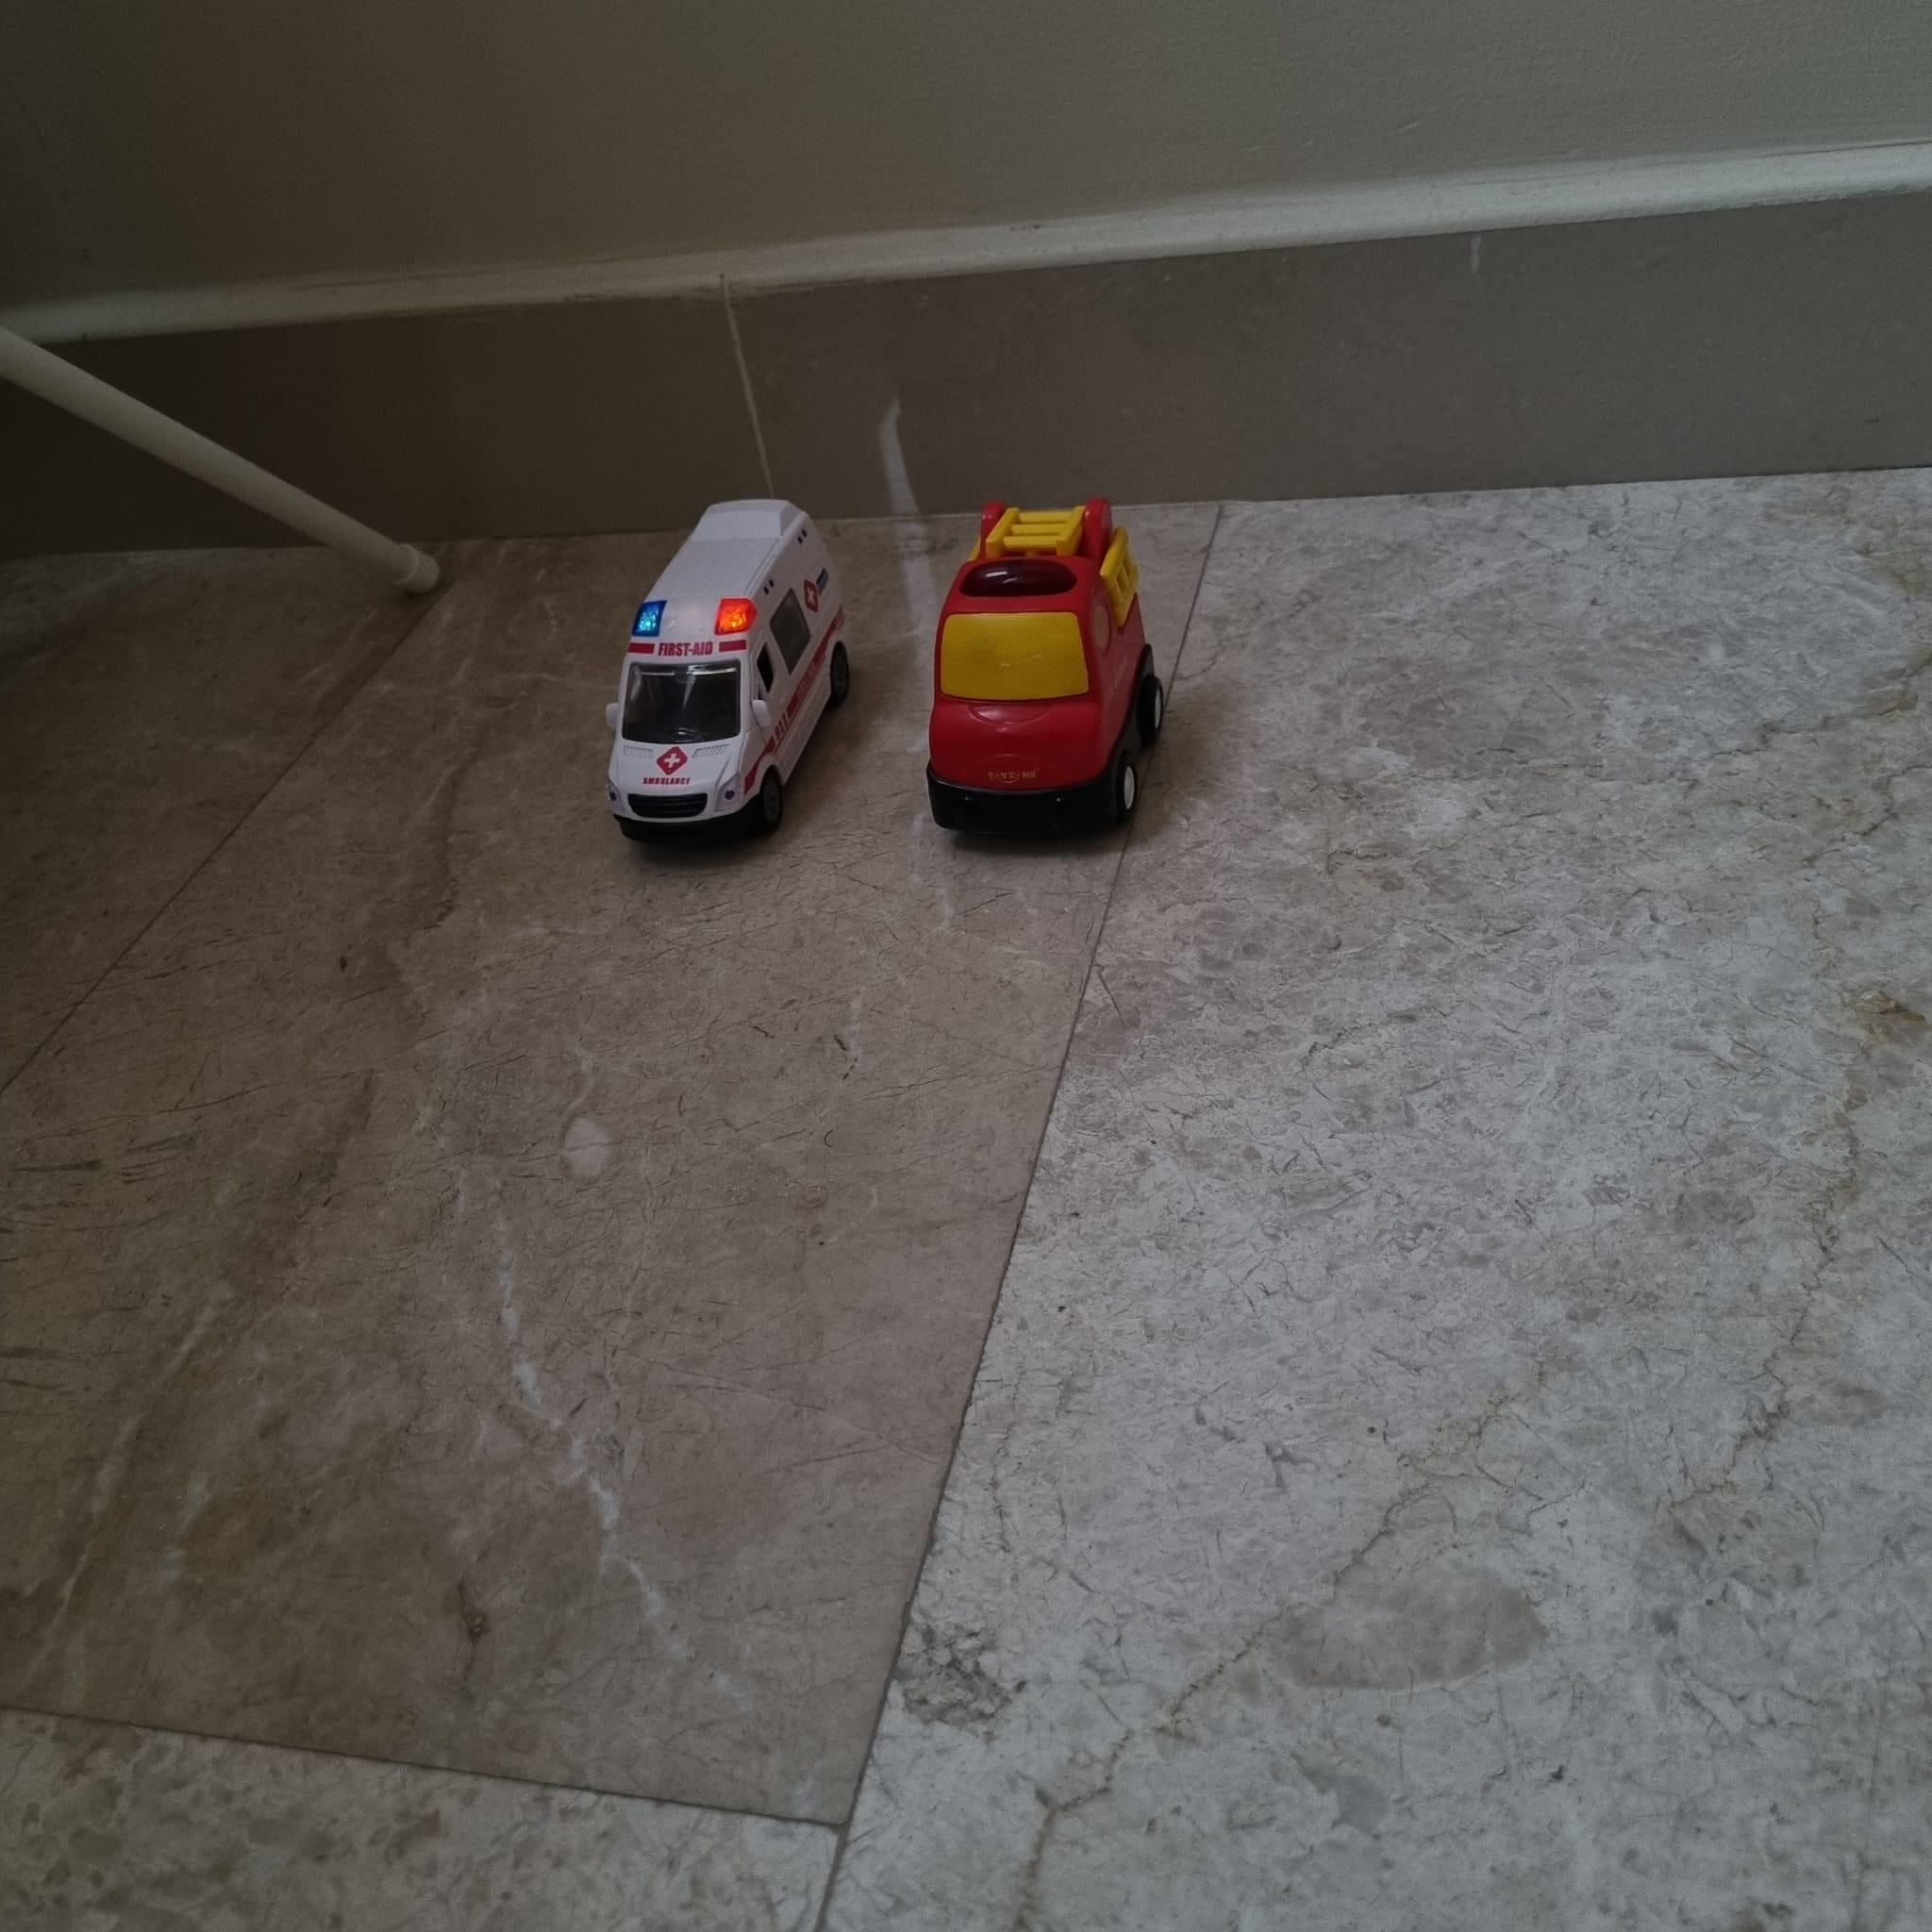ambulance_on: (603, 501, 851, 842)
firetruck_off: (925, 501, 1164, 846)
